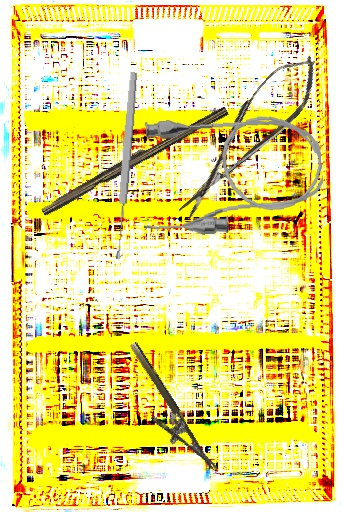Cannula: (135, 107, 327, 240)
Micro Scissor: (161, 44, 333, 228)
Needle Holder: (112, 340, 218, 484)
Scalpel Handle: (39, 100, 229, 220)
Surgical Spoon: (111, 71, 140, 260)
